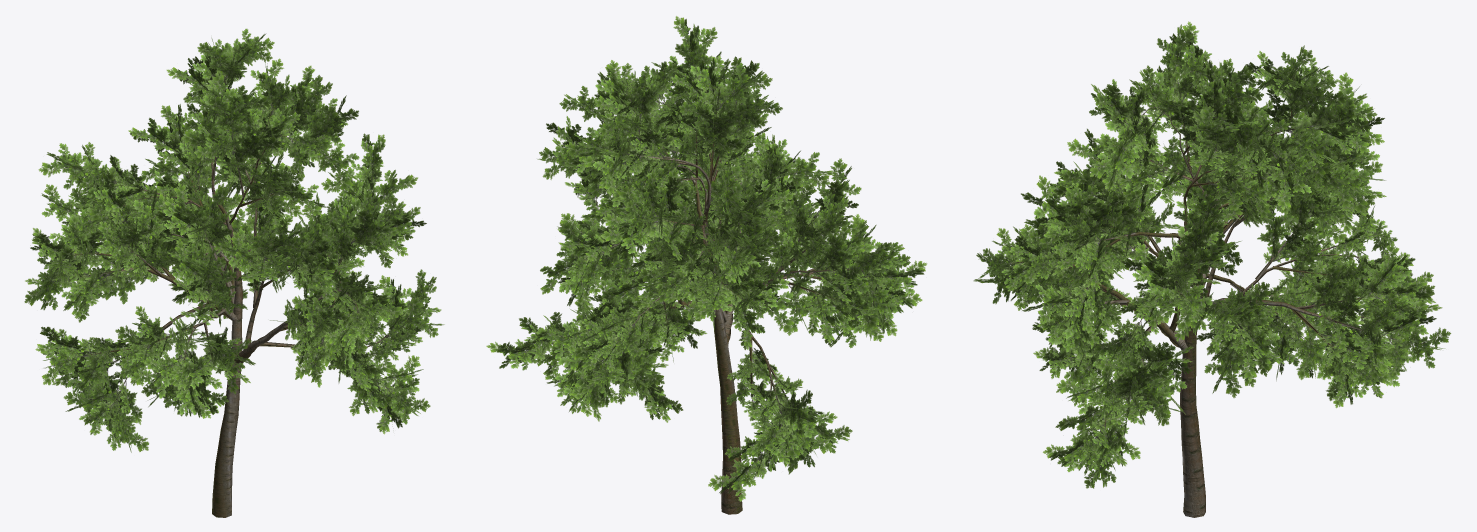
The model's file is tree5.glb.
3 views of the same model, side by side, from view 1: azimuth 30°, elevation 25°; view 2: azimuth 150°, elevation 25°; view 3: azimuth 270°, elevation 25° (orthographic). The views are drawn at different scales.
Visible parts, largest first — view 1: Tree EZTree0.Medium011; view 2: Tree EZTree0.Medium011; view 3: Tree EZTree0.Medium011.
Boxes of the visible parts, box(x1,y1,x2,y2) form: Tree EZTree0.Medium011: box(24, 28, 444, 517); Tree EZTree0.Medium011: box(486, 16, 927, 514); Tree EZTree0.Medium011: box(973, 21, 1451, 517).
Bounding box in the file's own units: 42.25 × 47.22 × 42.74.
Materials: 2 (2 with a texture image).
